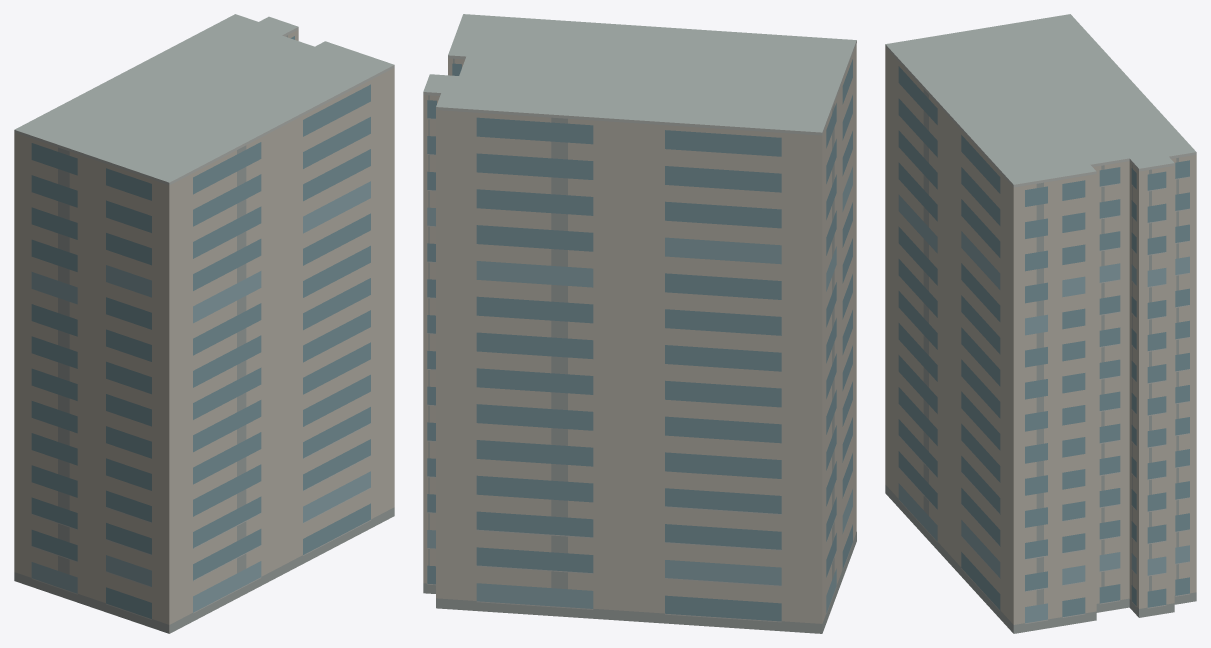
The model's file is residential-ca35e676-7660-40c8-826d-b8a63f1a6187.glb.
3 renders of one model, left to right at view 1: azimuth 30°, elevation 25°; view 2: azimuth 150°, elevation 25°; view 3: azimuth 270°, elevation 25°, orthographic. The views are drawn at different scales.
Parts seen in each view (by area): view 1: residential-ca35e676-7660-40c8-826d-b8a63f1a6187.tmp; view 2: residential-ca35e676-7660-40c8-826d-b8a63f1a6187.tmp; view 3: residential-ca35e676-7660-40c8-826d-b8a63f1a6187.tmp.
Boxes of the visible parts, x1,y1,x2,y2 form: residential-ca35e676-7660-40c8-826d-b8a63f1a6187.tmp: (14,14,394,633); residential-ca35e676-7660-40c8-826d-b8a63f1a6187.tmp: (423,14,856,633); residential-ca35e676-7660-40c8-826d-b8a63f1a6187.tmp: (885,14,1196,633).
Bounding box in the file's own units: 32.64 × 40 × 25.14.
